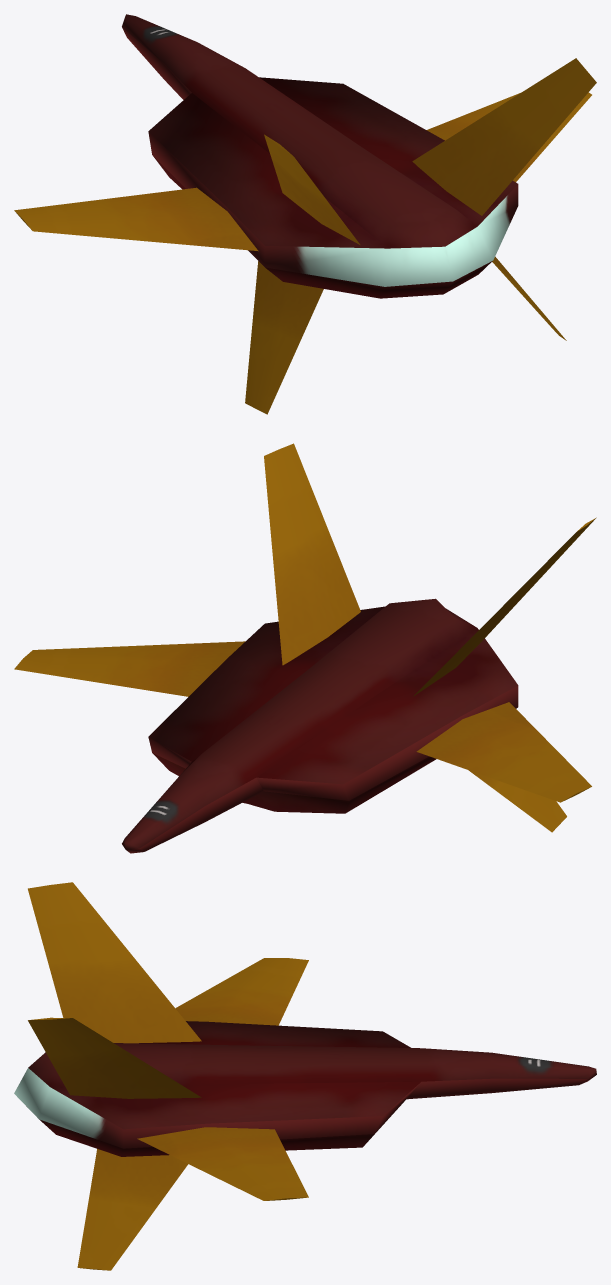
The model's file is player_ship.fbx.
3 renders of one model, top to bottom at view 1: azimuth 30°, elevation 25°; view 2: azimuth 150°, elevation 25°; view 3: azimuth 270°, elevation 25°, orthographic. The views are drawn at different scales.
Visible parts, largest first — view 1: Cube; view 2: Cube; view 3: Cube.
Boxes of the visible parts, box(x1,y1,x2,y2) form: Cube: box(14, 14, 596, 414); Cube: box(14, 443, 596, 853); Cube: box(14, 882, 596, 1270).
Bounding box in the file's own units: 4.53 × 2.21 × 4.6.
1 material, 1 textured.
